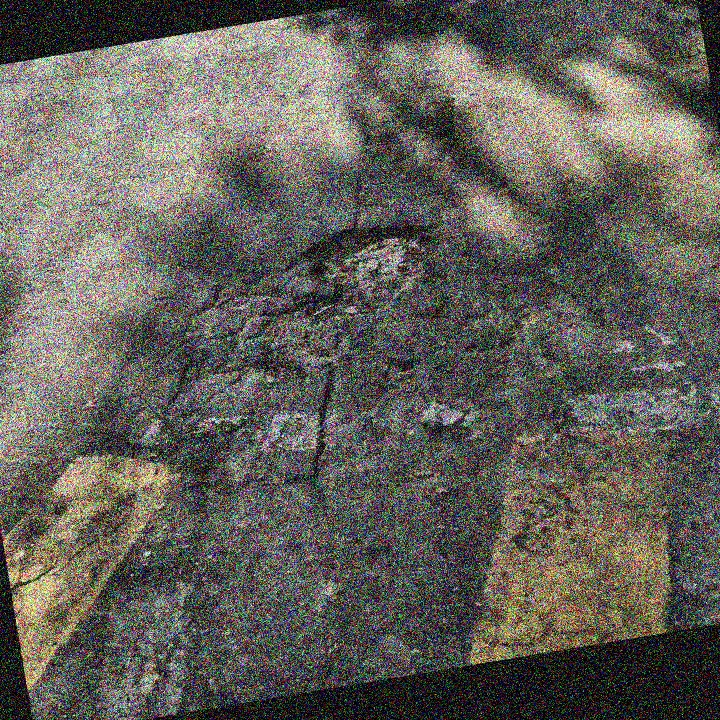pothole: (285, 210, 459, 320), (250, 287, 367, 380), (190, 419, 273, 504)
